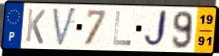7: (83, 8, 108, 47)
9: (169, 9, 195, 51)
J: (142, 8, 169, 50)
K: (24, 7, 48, 45)
L: (112, 10, 133, 47)
V: (51, 6, 78, 49)
